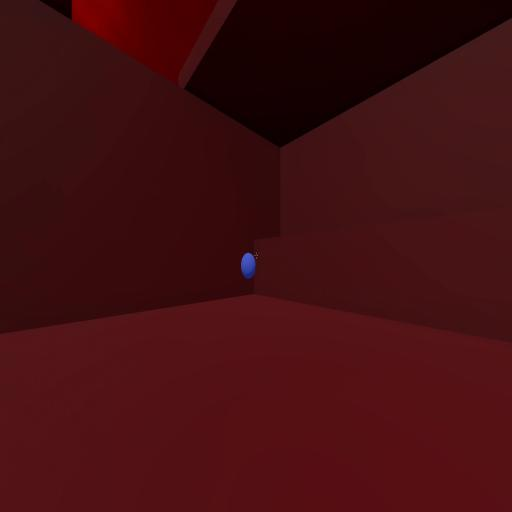Crosshair: (253, 251, 260, 261)
Target: (241, 253, 256, 279)
